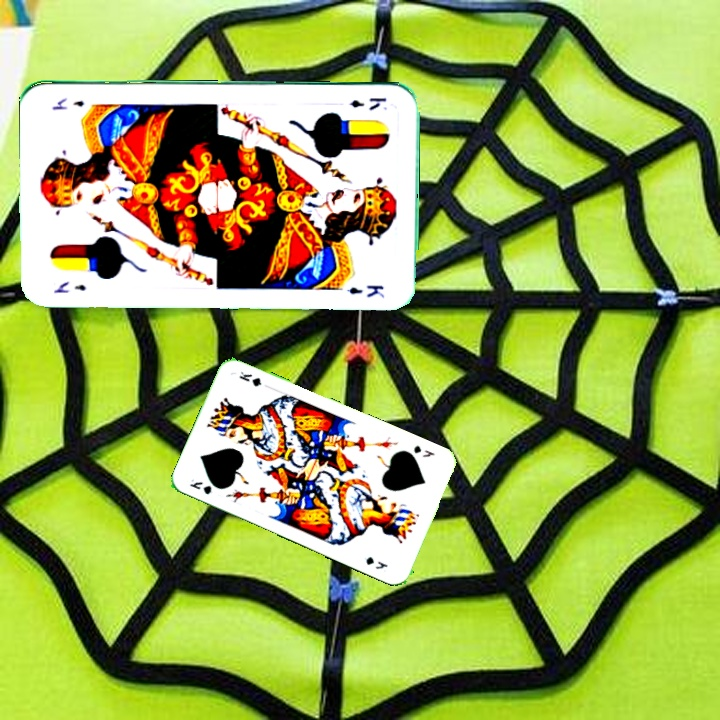EK: (346, 94, 389, 113), (50, 277, 89, 296)
GK: (186, 475, 215, 497), (409, 441, 437, 460)
